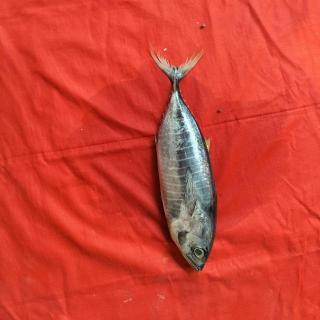Ikan: (137, 41, 233, 280)
